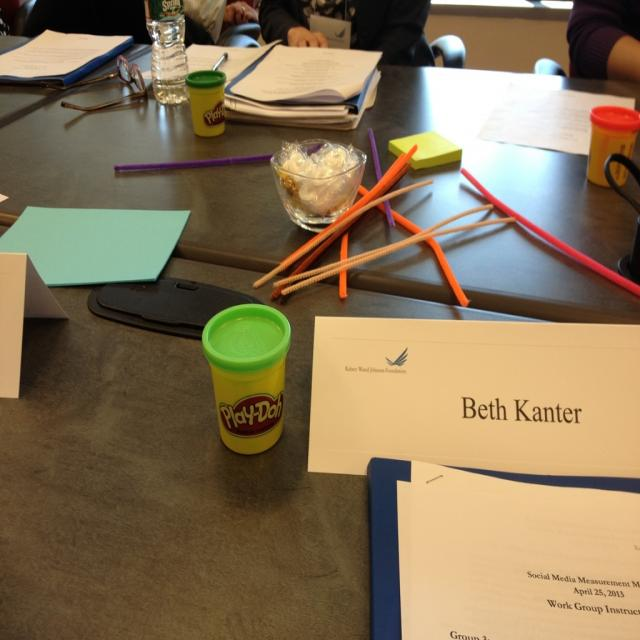chair: (429, 35, 466, 68)
desk: (0, 225, 639, 639)
person: (256, 1, 439, 68), (566, 1, 640, 85)
